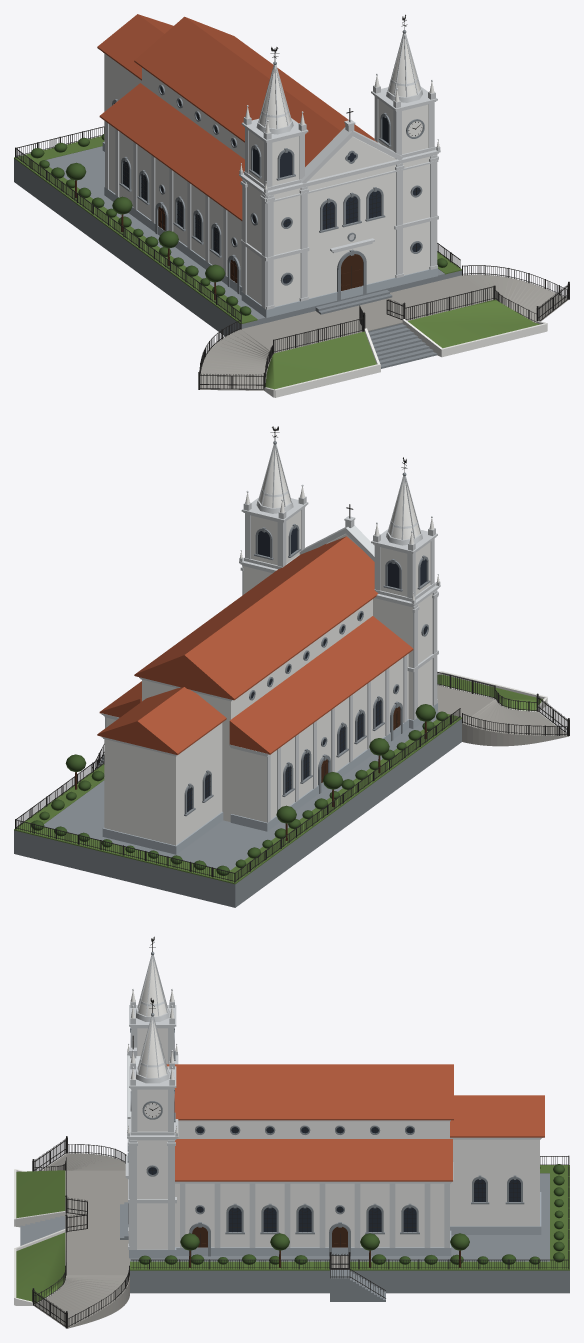
Rendered from igreja-matriz-nsc.glb.
3 views of the same model, one above another, from view 1: azimuth 30°, elevation 25°; view 2: azimuth 150°, elevation 25°; view 3: azimuth 270°, elevation 25° (orthographic). The views are drawn at different scales.
Parts seen in each view (by area): view 1: nave_roof, nave, aisle_west_roof, terrace_paving, aisle_west, podium_side_west, tower_west_shaft, lawn_west, podium, lawn_east, ramp_west, side_lawn_west (+21 smaller); view 2: nave_roof, chancel, aisle_west_roof, aisle_west, podium, podium_rear, podium_side_west, chancel_roof, nave, ramp_west, tower_west_shaft, side_lawn_west (+12 smaller); view 3: nave_roof, aisle_east_roof, aisle_east, podium_side_east, chancel, terrace_paving, nave, chancel_roof, podium, side_lawn_east, ramp_east, tower_east_shaft (+13 smaller).
Part boxes in pixels (<box>): nave_roof: <box>134,16,377,166</box>; nave: <box>142,68,395,298</box>; aisle_west_roof: <box>99,83,244,220</box>; terrace_paving: <box>241,275,493,353</box>; aisle_west: <box>109,124,241,285</box>; podium_side_west: <box>24,166,257,336</box>; tower_west_shaft: <box>247,182,300,306</box>; lawn_west: <box>265,331,376,389</box>; podium: <box>45,146,444,324</box>; lawn_east: <box>408,299,539,348</box>; ramp_west: <box>200,329,273,390</box>; side_lawn_west: <box>24,161,257,323</box>; nave_roof: <box>134,536,378,700</box>; chancel: <box>104,723,222,845</box>; aisle_west_roof: <box>229,616,413,754</box>; aisle_west: <box>231,654,408,822</box>; podium: <box>44,711,438,870</box>; podium_rear: <box>14,830,245,907</box>; podium_side_west: <box>245,719,461,899</box>; chancel_roof: <box>97,687,226,754</box>; nave: <box>142,599,372,821</box>; ramp_west: <box>462,699,568,746</box>; tower_west_shaft: <box>373,593,432,719</box>; side_lawn_west: <box>230,714,461,876</box>; nave_roof: <box>166,1064,453,1120</box>; aisle_east_roof: <box>175,1139,452,1181</box>; aisle_east: <box>175,1183,444,1247</box>; podium_side_east: <box>130,1270,549,1293</box>; chancel: <box>450,1139,539,1226</box>; terrace_paving: <box>65,1170,129,1275</box>; nave: <box>177,1121,449,1138</box>; chancel_roof: <box>450,1095,544,1137</box>; podium: <box>130,1173,549,1261</box>; side_lawn_east: <box>130,1261,549,1270</box>; ramp_east: <box>34,1275,129,1328</box>; tower_east_shaft: <box>137,1140,167,1249</box>.
Bounding box in the file's own units: 41.64 × 30.15 × 55.62.
